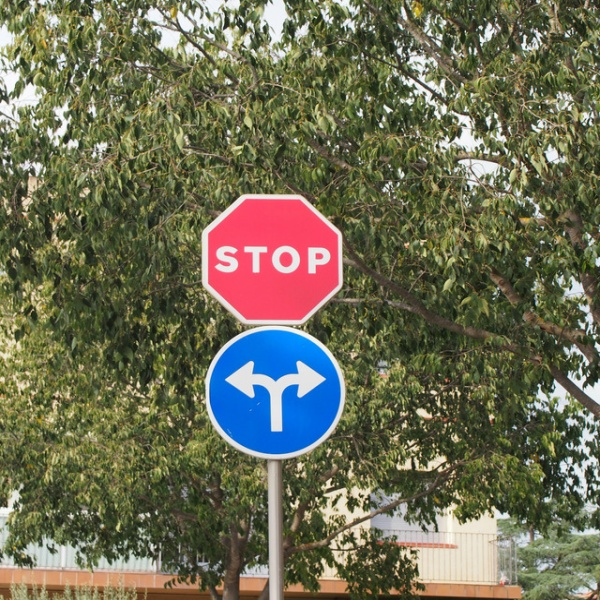stop: (195, 196, 346, 323)
